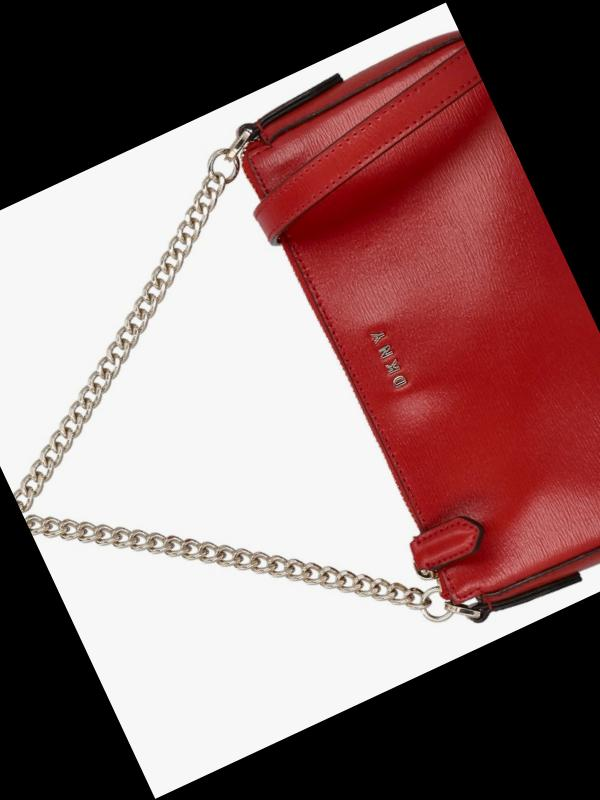DKNY: (369, 328, 406, 388)
